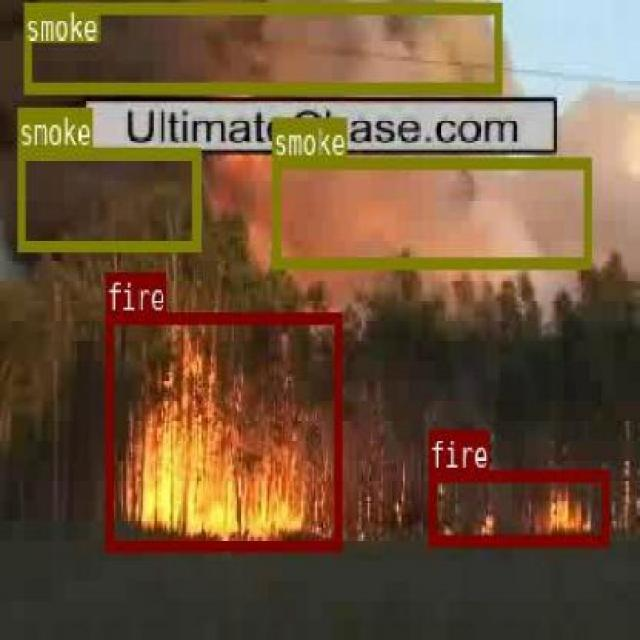Fire: (104, 312, 341, 548), (428, 468, 607, 544)
Smoke: (23, 0, 500, 91), (272, 156, 590, 266), (17, 145, 197, 250)
